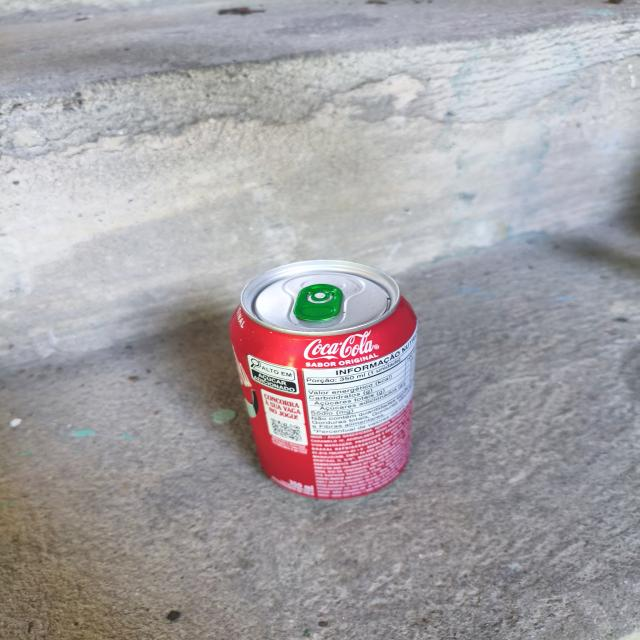Coca Cola: (228, 259, 420, 497)
